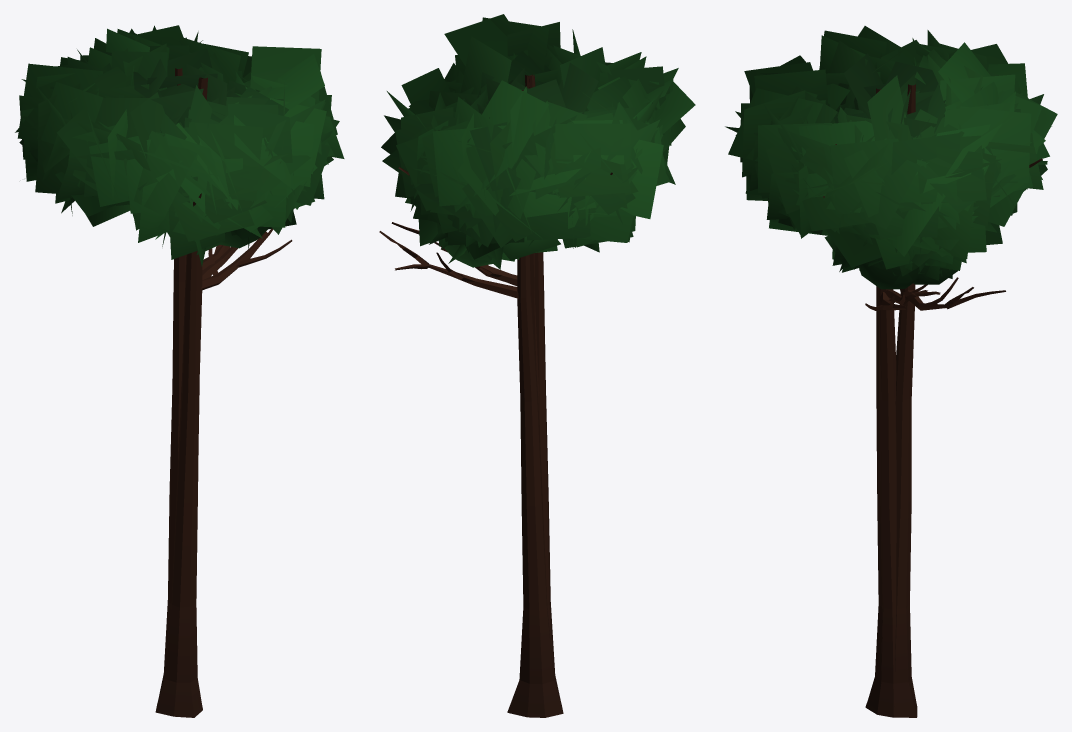
Rendered from pine.glb.
3 views of the same model, side by side, from view 1: azimuth 30°, elevation 25°; view 2: azimuth 150°, elevation 25°; view 3: azimuth 270°, elevation 25° (orthographic).
Visible parts, largest first — view 1: tree_pine_1, tree_pine_2, tree_pine_0; view 2: tree_pine_0, tree_pine_2, tree_pine_1; view 3: tree_pine_2, tree_pine_1, tree_pine_0.
Part boxes in pixels (x1,y1,x2,y2): tree_pine_1: (29,43,344,717); tree_pine_2: (19,25,334,717); tree_pine_0: (15,25,339,716); tree_pine_0: (379,14,663,717); tree_pine_2: (381,17,678,717); tree_pine_1: (384,29,695,717); tree_pine_2: (735,26,1049,717); tree_pine_1: (728,35,1057,717); tree_pine_0: (725,30,1047,717).
Bounding box in the file's own units: 6.67 × 15.04 × 7.04.
